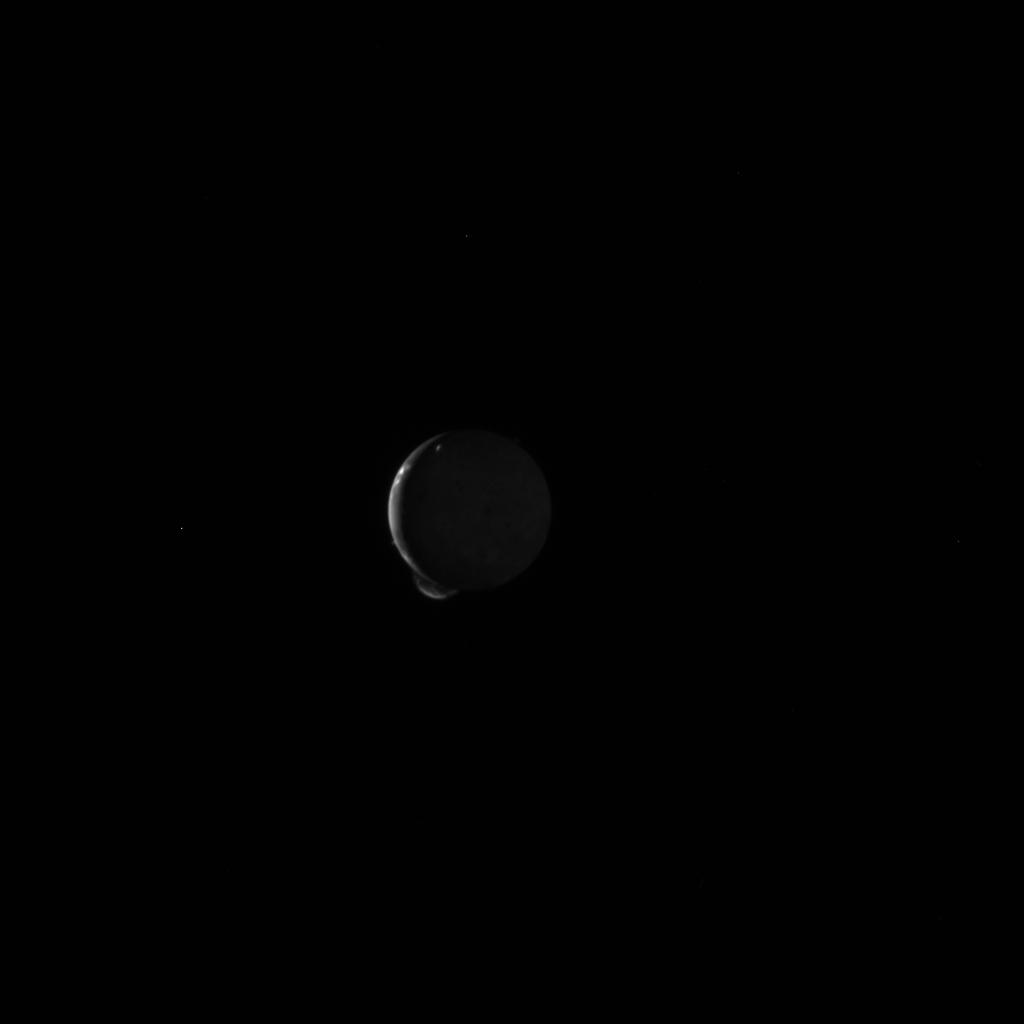plumes: (408, 566, 464, 604)
